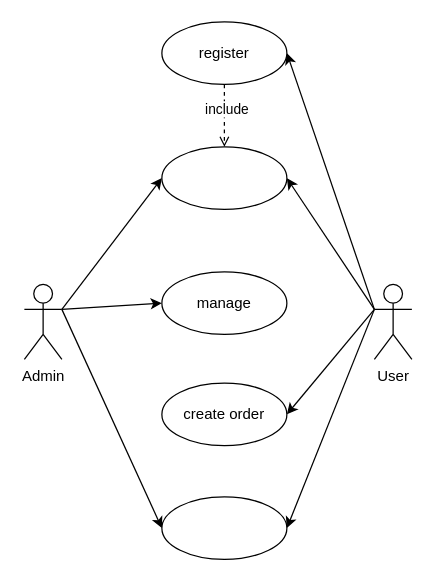
This 434x581 diagram has some shape labels left out. The centre of each missing label's shape, as x and y in pixels:
login: point 224,177
logout: point 224,527
